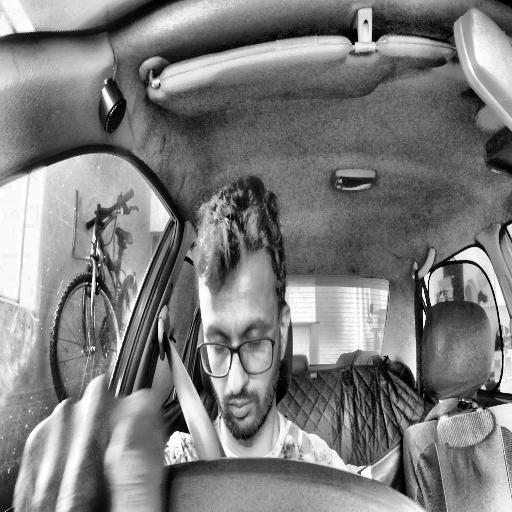drowsy: (194, 178, 290, 440)
